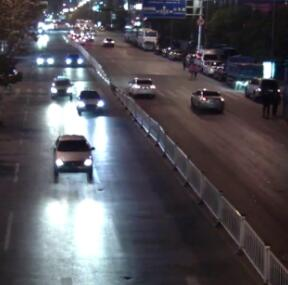bus: (131, 26, 158, 51), (123, 23, 136, 44)
car: (50, 134, 97, 181), (224, 53, 263, 90), (243, 76, 282, 105), (189, 87, 225, 115), (75, 88, 105, 116), (126, 75, 156, 101), (49, 73, 75, 101), (193, 48, 215, 71), (202, 58, 224, 77), (35, 50, 54, 67), (64, 51, 82, 66), (165, 48, 183, 60), (99, 36, 116, 48), (185, 51, 195, 66), (75, 36, 86, 44), (84, 33, 94, 41)
